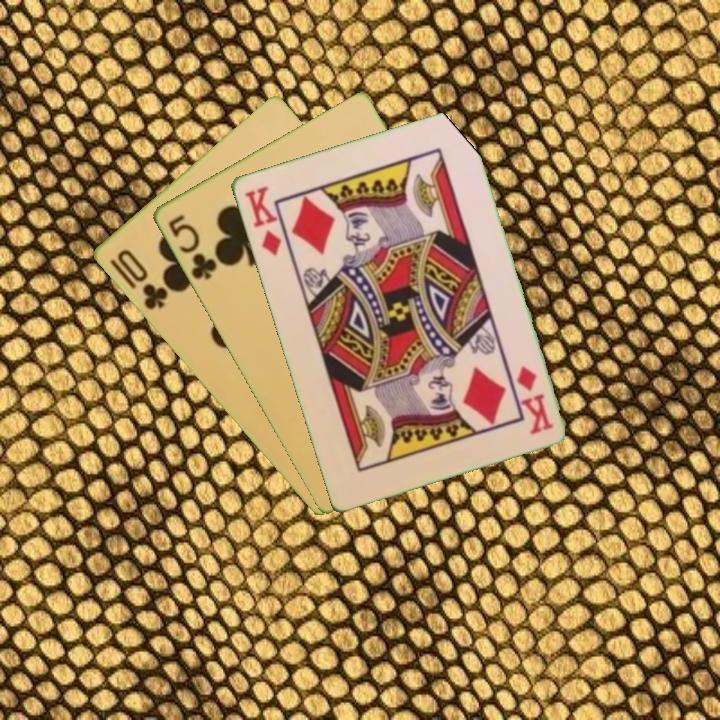10c: (113, 245, 171, 313)
5c: (164, 210, 219, 283)
Kd: (512, 361, 556, 437), (241, 182, 284, 258)
